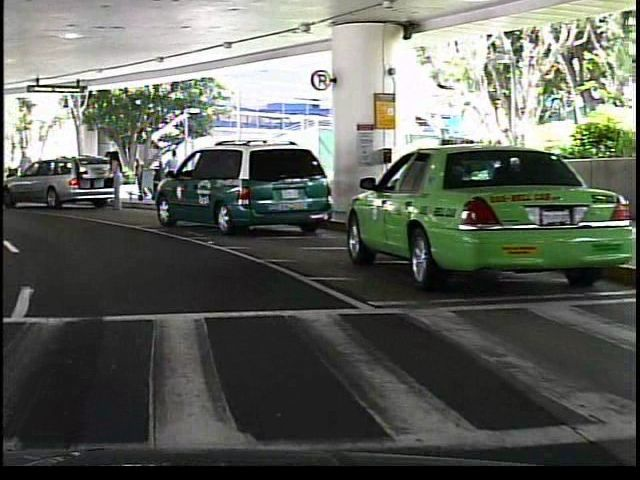person: (103, 147, 123, 212)
